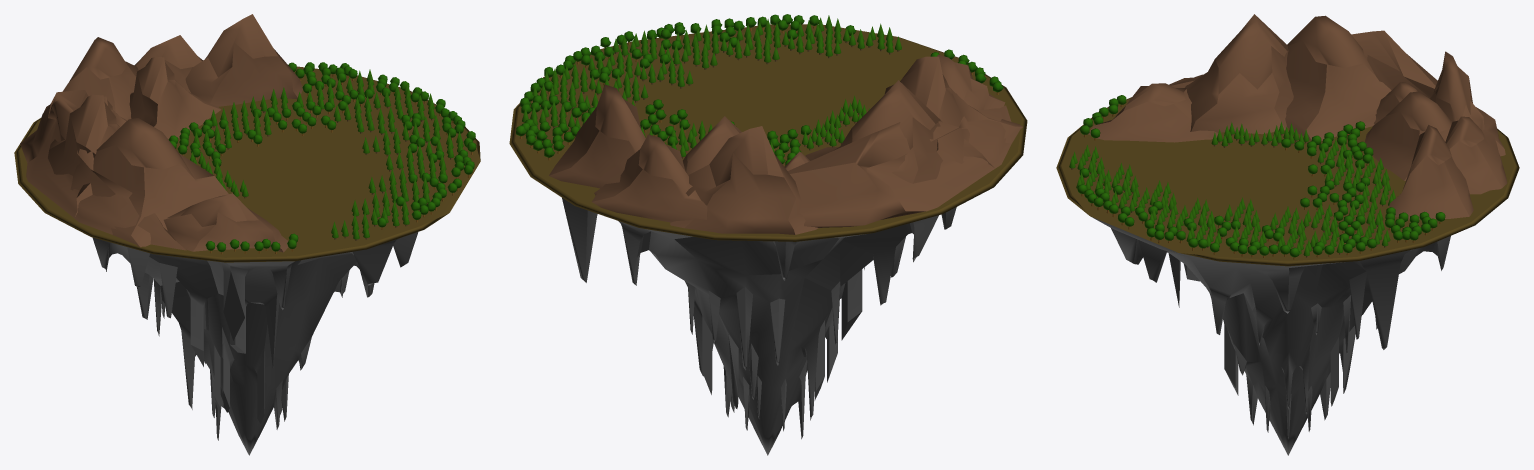
The model's file is islandv2.fbx.
3 renders of one model, left to right at view 1: azimuth 30°, elevation 25°; view 2: azimuth 150°, elevation 25°; view 3: azimuth 270°, elevation 25°, orthographic. The views are drawn at different scales.
Parts seen in each view (by area): view 1: pCone14_pCone14Shape; view 2: pCone14_pCone14Shape; view 3: pCone14_pCone14Shape.
Part boxes in pixels (left/top/right/bottom): pCone14_pCone14Shape: left=14, top=14, right=480, bottom=455; pCone14_pCone14Shape: left=509, top=14, right=1027, bottom=455; pCone14_pCone14Shape: left=1056, top=14, right=1519, bottom=455.
Size of the model in its own units: 14798 by 13245 by 14797.
